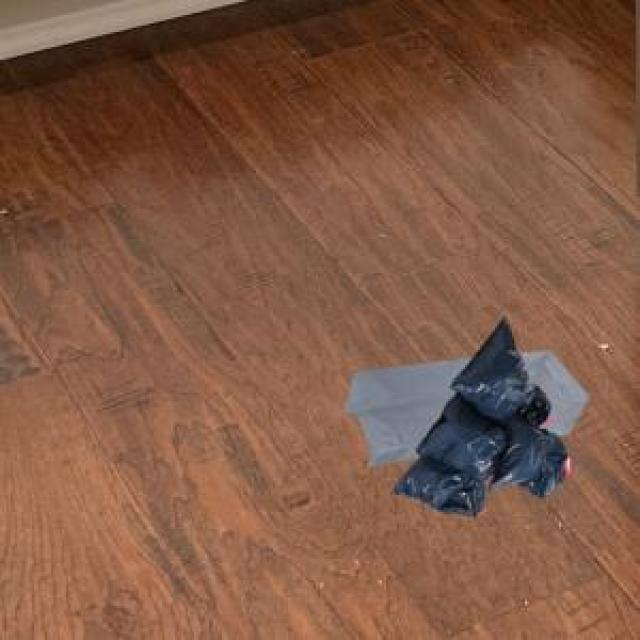miscellaneous trash: (386, 314, 565, 512)
